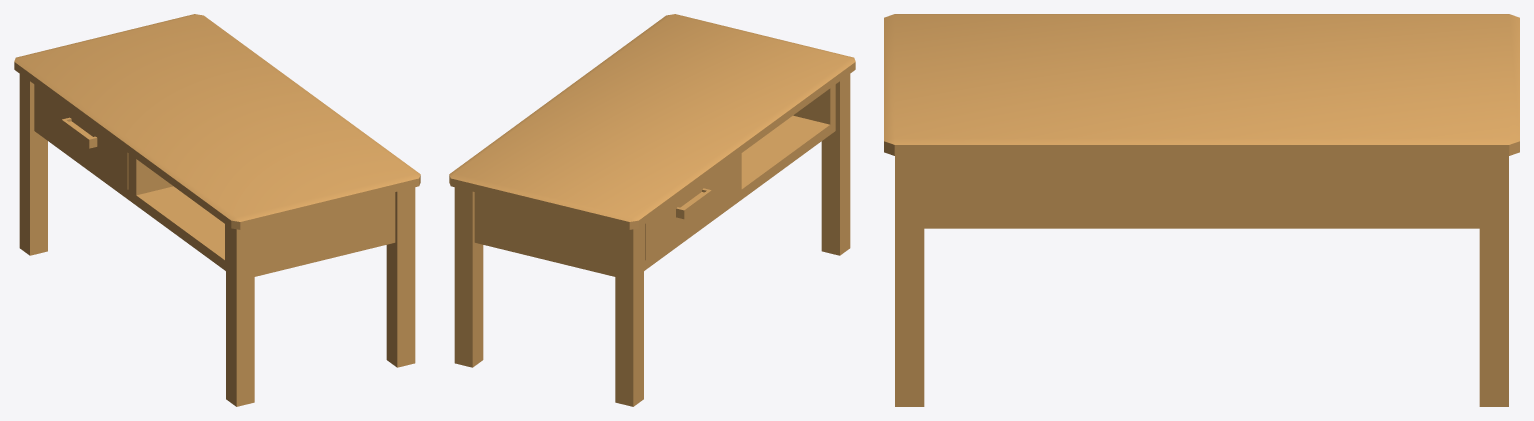
File: Table.fbx
The picture shows the model from 3 angles, left to right: view 1: azimuth 30°, elevation 25°; view 2: azimuth 150°, elevation 25°; view 3: azimuth 270°, elevation 25°; orthographic projection. The views are drawn at different scales.
Parts seen in each view (by area): view 1: Table, Table_Draw; view 2: Table, Table_Draw; view 3: Table.
Part boxes in pixels (x1=…): Table: x1=14, y1=14, x2=420, y2=406; Table_Draw: x1=39, y1=88, x2=128, y2=189; Table: x1=449, y1=14, x2=855, y2=406; Table_Draw: x1=645, y1=159, x2=733, y2=260; Table: x1=884, y1=14, x2=1519, y2=406.
Size of the model in its own units: 72.17 by 69.02 by 148.
